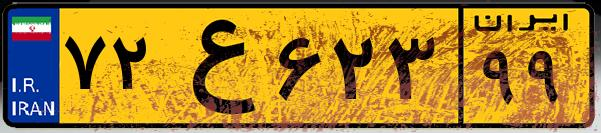2: (330, 28, 385, 110), (110, 28, 158, 98)
3: (385, 28, 445, 110)
6: (270, 28, 330, 110)
7: (57, 26, 110, 100)
9: (475, 38, 525, 113), (525, 38, 570, 115)
ع: (158, 12, 270, 120)
